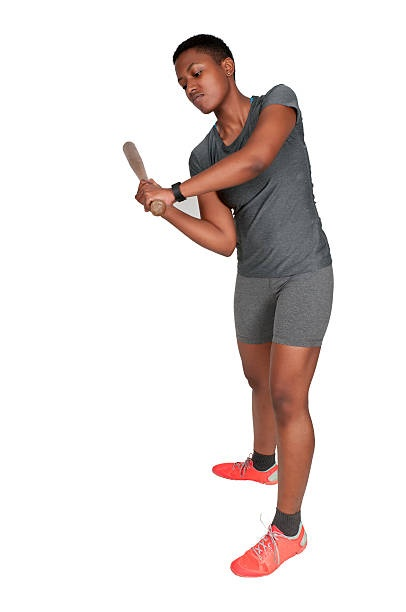bita: (121, 134, 177, 225)
